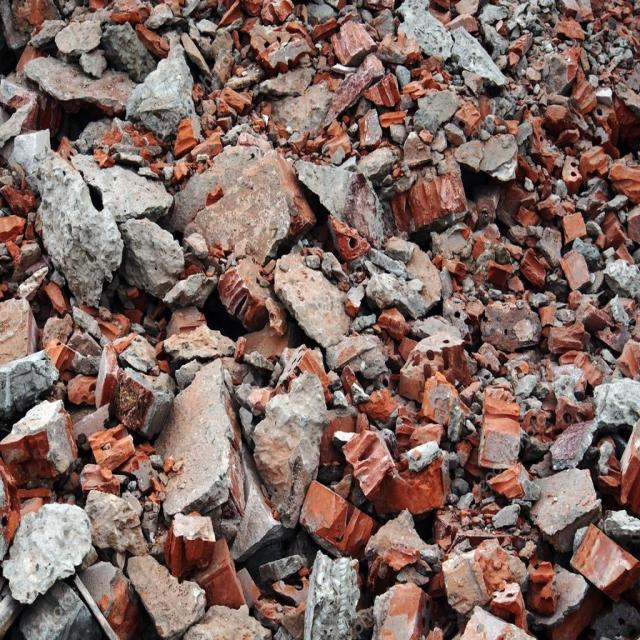Pecahan Agregat: (134, 346, 262, 540), (27, 134, 134, 294), (148, 21, 275, 154), (378, 133, 498, 272), (194, 134, 306, 276), (9, 10, 135, 130), (242, 370, 344, 507), (115, 190, 208, 336), (66, 15, 165, 144), (261, 238, 359, 362), (352, 421, 476, 512), (2, 490, 108, 590), (422, 537, 534, 622), (515, 443, 608, 545), (264, 11, 352, 112), (360, 18, 452, 110), (465, 7, 550, 103), (306, 474, 390, 569), (559, 330, 640, 426), (126, 544, 214, 631), (562, 2, 640, 99), (581, 98, 640, 222), (477, 273, 546, 377), (289, 543, 376, 625), (565, 218, 640, 312), (460, 129, 540, 205), (536, 178, 607, 254), (567, 510, 630, 595), (384, 518, 450, 574)
